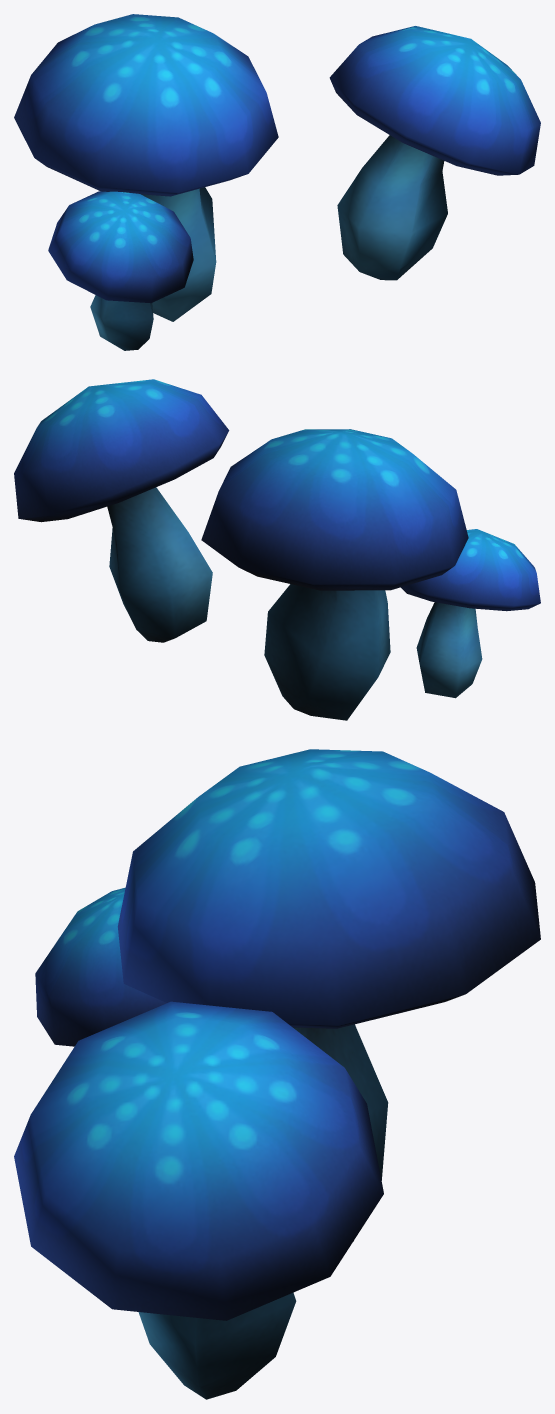
File: Mushroom_03Group.FBX
3 views of the same model, one above another, from view 1: azimuth 30°, elevation 25°; view 2: azimuth 150°, elevation 25°; view 3: azimuth 270°, elevation 25° (orthographic). The views are drawn at different scales.
Visible parts, largest first — view 1: Mushroom_03Group; view 2: Mushroom_03Group; view 3: Mushroom_03Group.
Boxes of the visible parts, bbox=[...] form: Mushroom_03Group: bbox=[14, 14, 540, 350]; Mushroom_03Group: bbox=[14, 379, 540, 720]; Mushroom_03Group: bbox=[14, 749, 540, 1399].
Size of the model in its own units: 0.4249 by 0.2356 by 0.2427.
